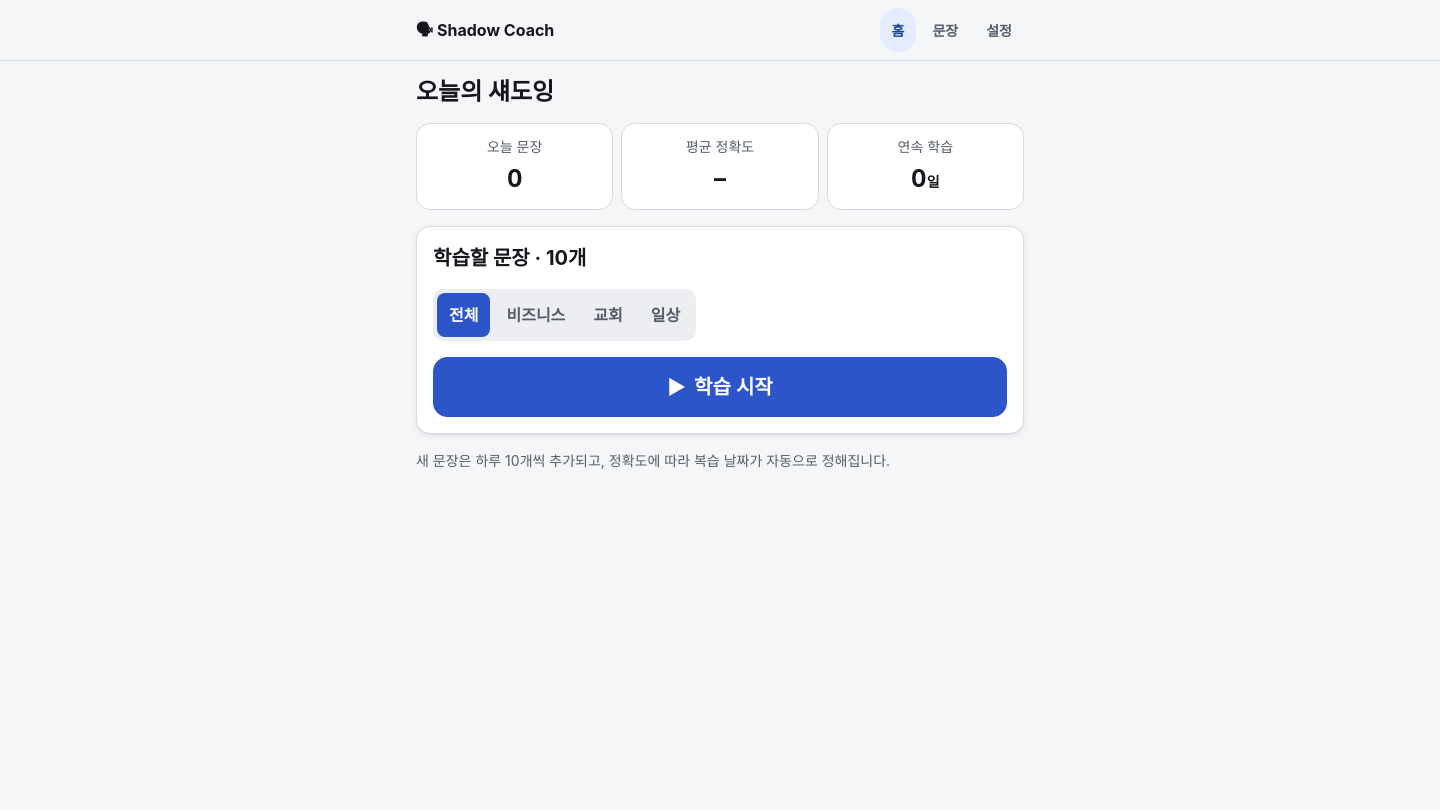
Test: App › shows recognition errors
Click the button "▶ 학습 시작" at {"x": 720, "y": 387}, box [433,357,1007,417]
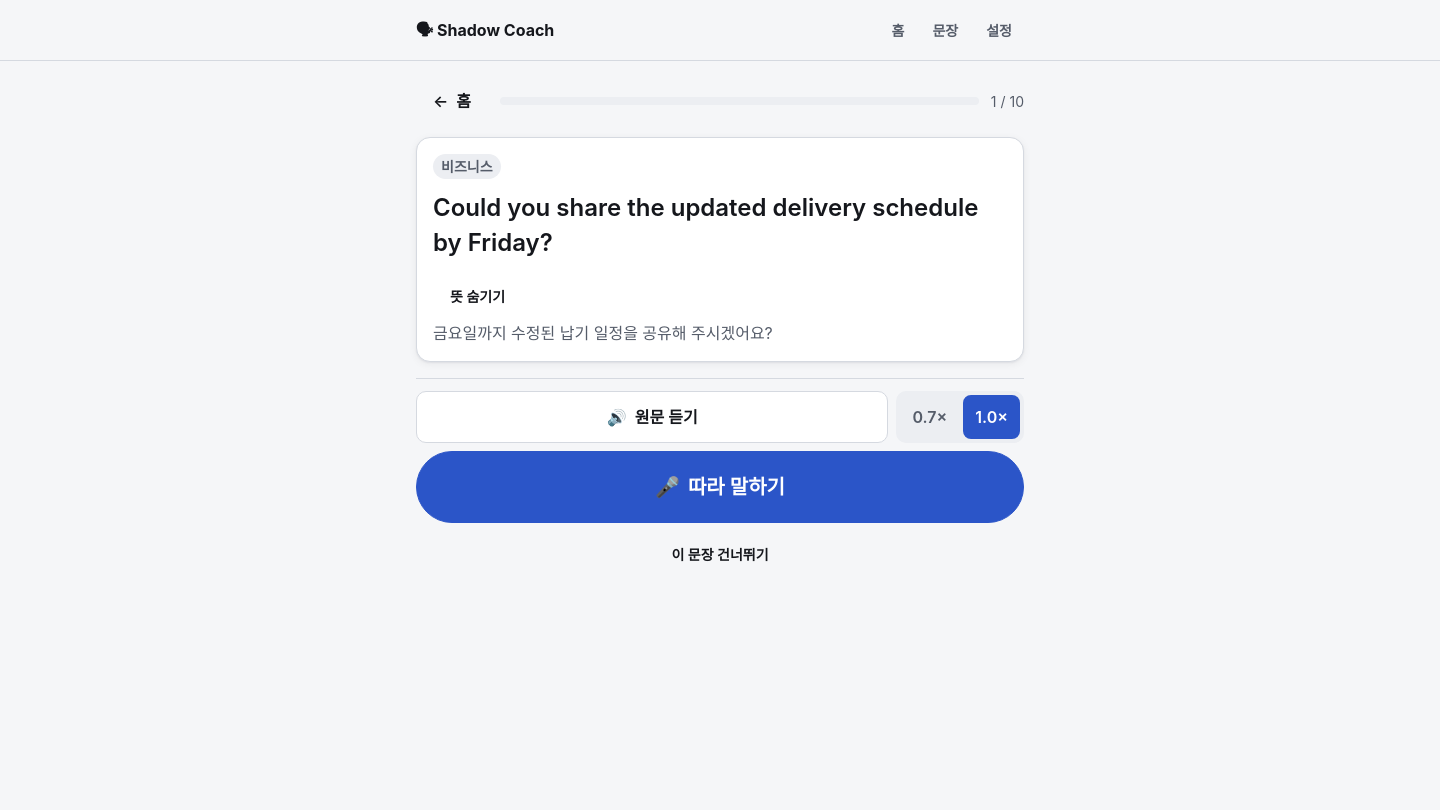
Click the button "🎤 따라 말하기" at {"x": 720, "y": 487}, box [416,451,1024,523]
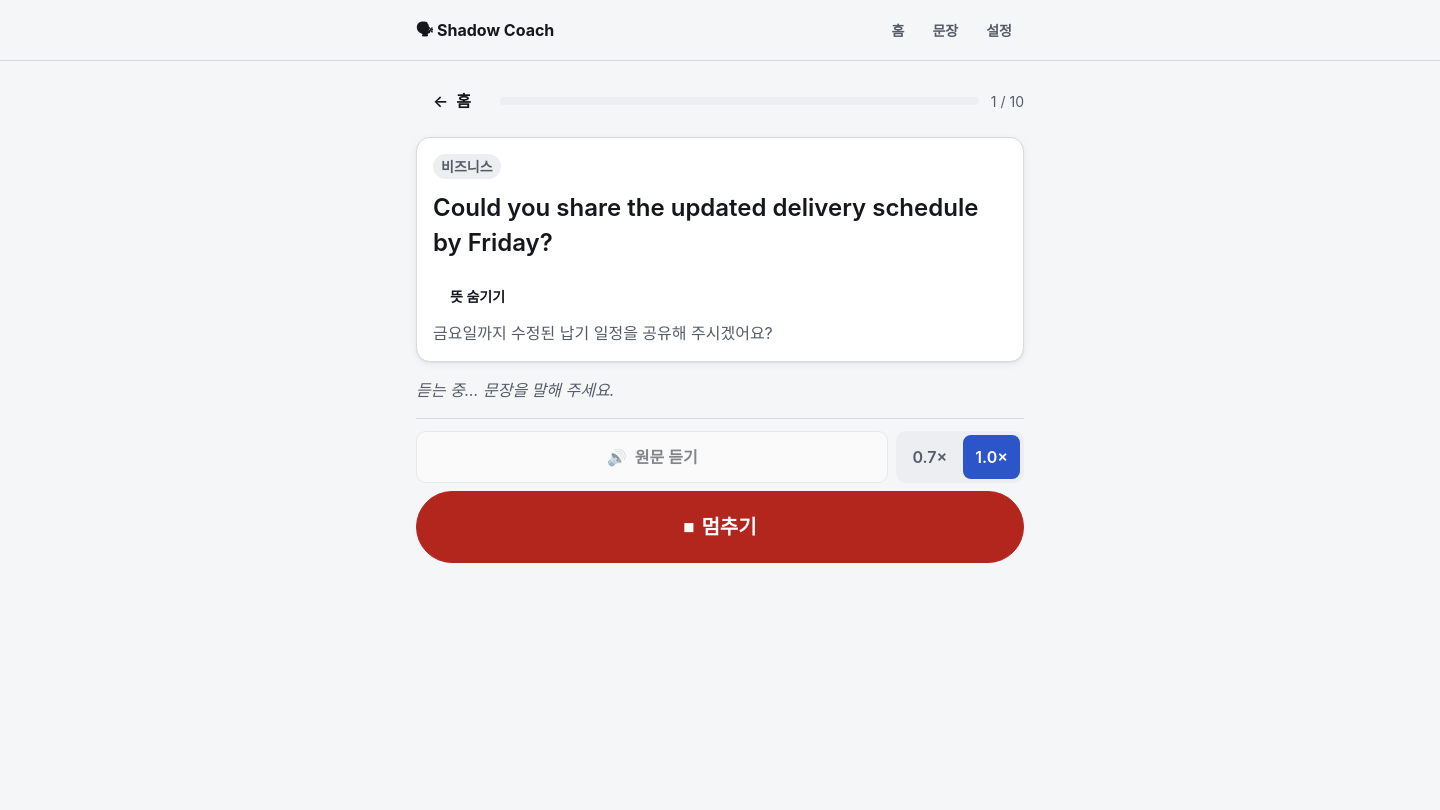
Click the button "⏹ 멈추기" at {"x": 720, "y": 527}, box [416,491,1024,563]
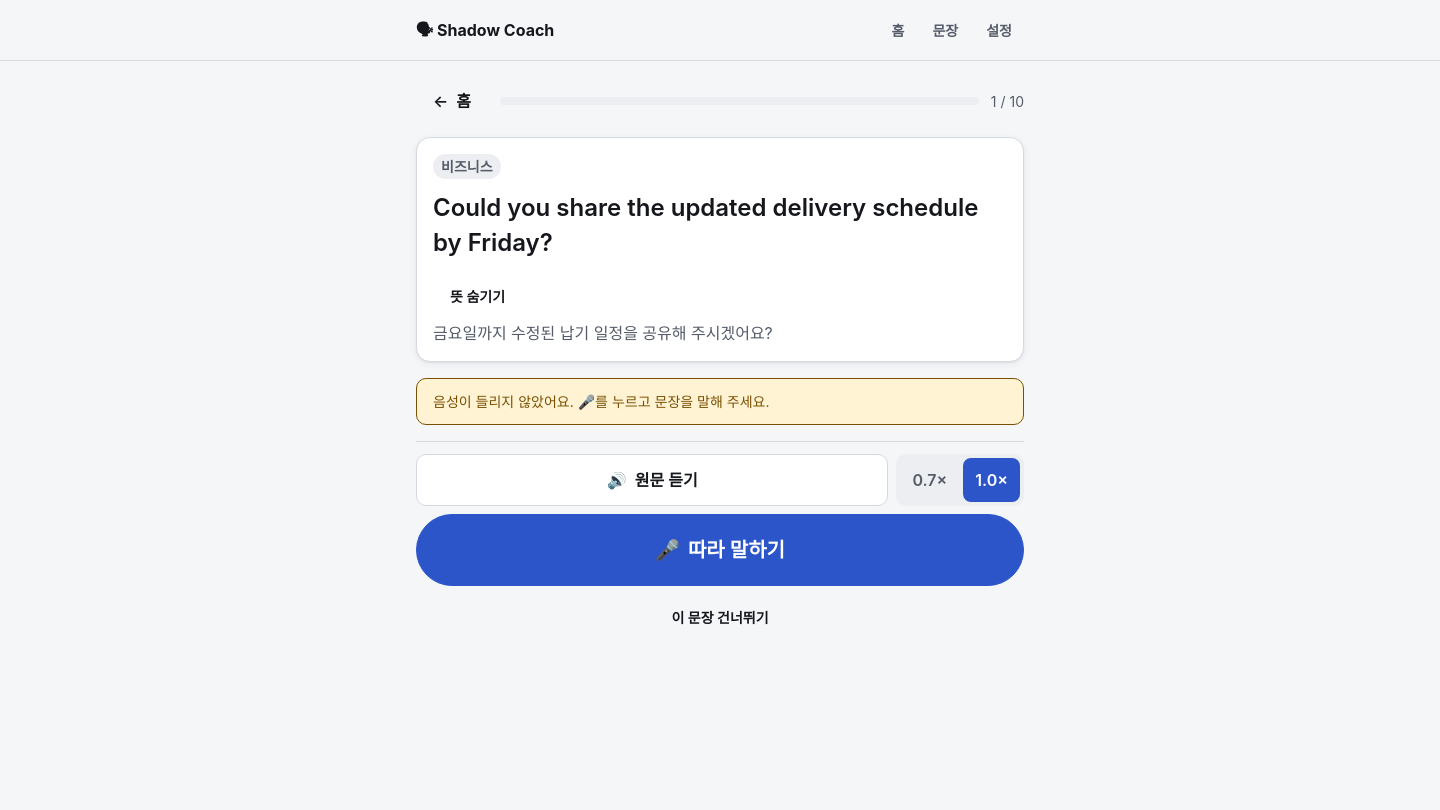
Expected: the text "음성이 들리지 않았어요. 🎤를 누르고 문장을 말해 주세요." is shown, [416,378,1024,425]
